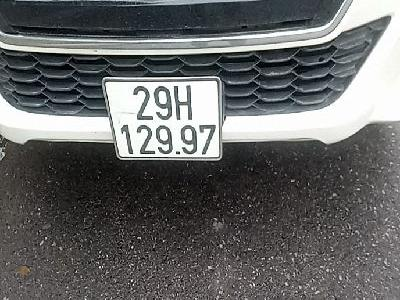number: (103, 78, 223, 161)
